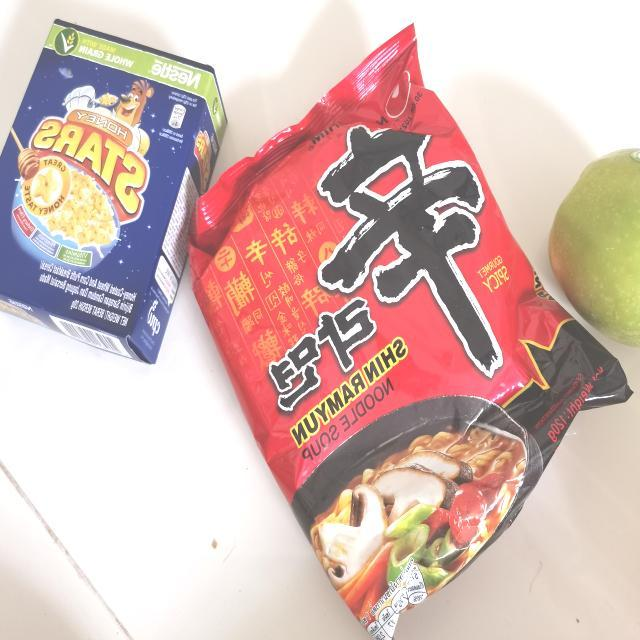apple: (546, 138, 640, 354)
